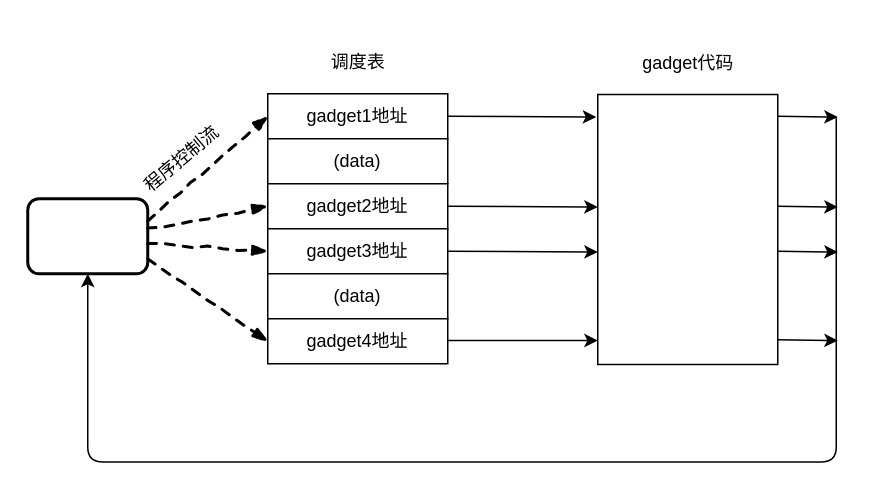
The diagram is 876 pixels wide and 500 high, and some of its shapes have lost their labels. The shapes that lost their labels are listed below. From the top down, each one's centre as x and y in pixels, then its label:
At point (87, 235): "调度器".
At point (687, 228): "ins ... ... jmp . . . ins ... ... jmp . ins ... ... jmp . . . ins ... ... jmp".
